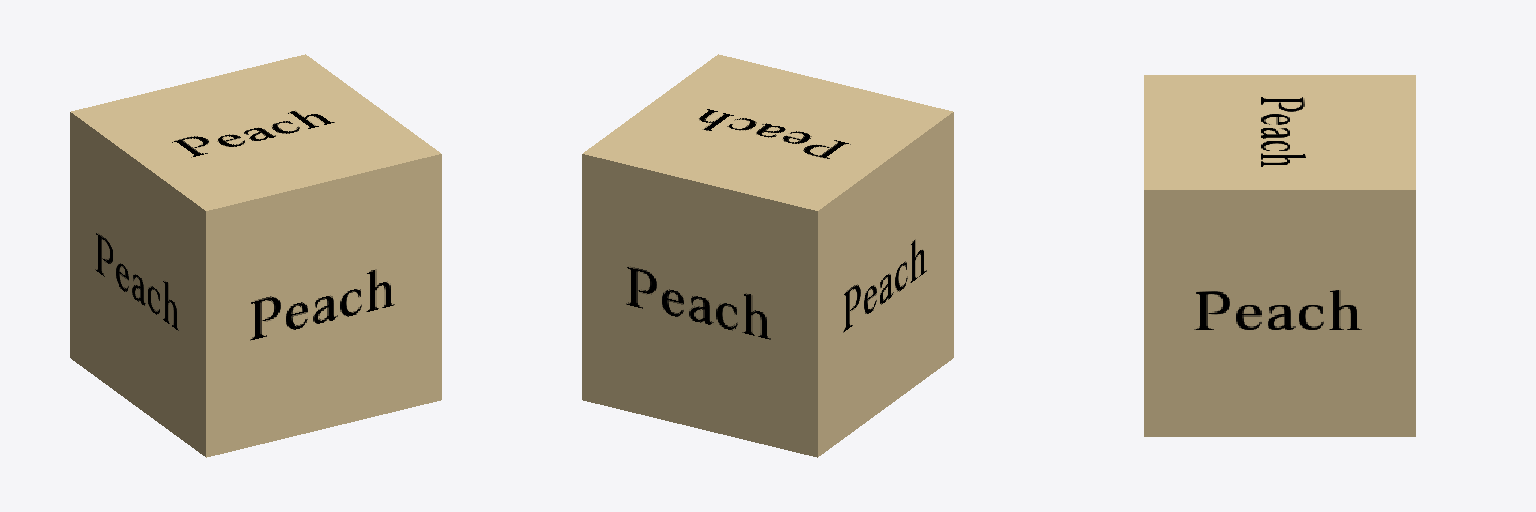
3 renders of one model, left to right at view 1: azimuth 30°, elevation 25°; view 2: azimuth 150°, elevation 25°; view 3: azimuth 270°, elevation 25°, orthographic.
Visible parts, largest first — view 1: Cube; view 2: Cube; view 3: Cube.
Part boxes in pixels (x1,y1,x2,y2): Cube: (70,54,441,457); Cube: (582,54,953,457); Cube: (1144,75,1415,436).
Bounding box in the file's own units: 0.6 × 0.6 × 0.6.
Materials: 1 (1 with a texture image).